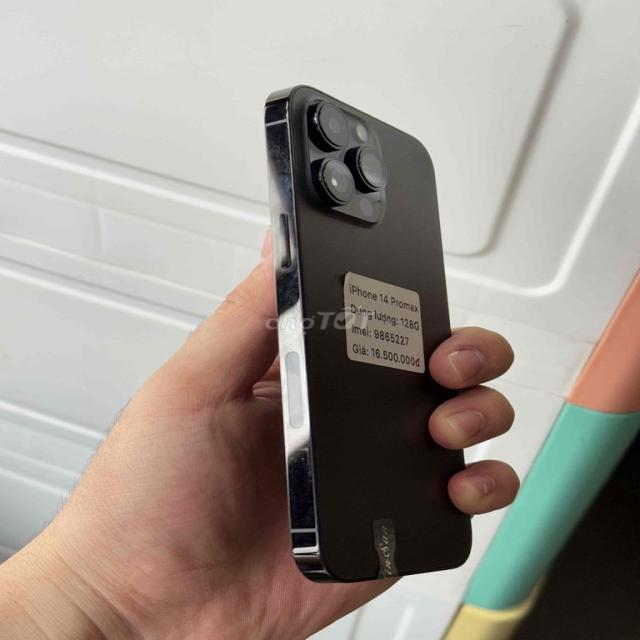scratch: (263, 131, 304, 302), (284, 433, 324, 495)
